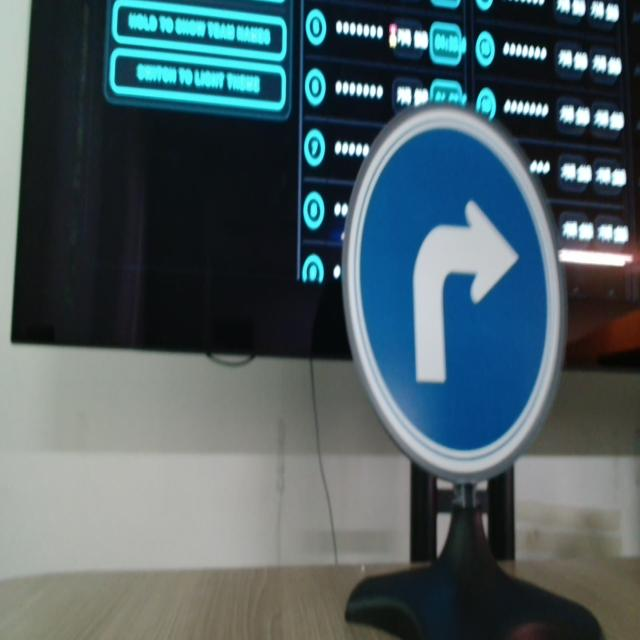right_dierection: (341, 86, 593, 516)
